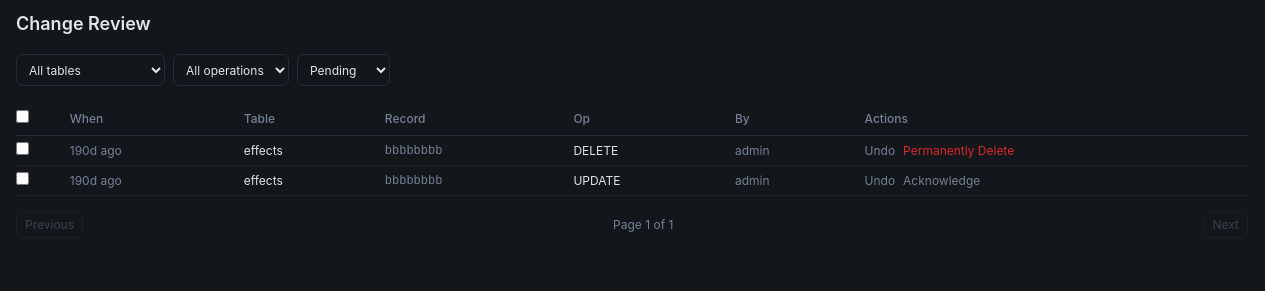
Test: ChangeReviewPage › bulk action bar appears when selection is non-empty
Click the 2nd checkbox at (22, 148), box top-left (16, 142), bottom-right (29, 155)
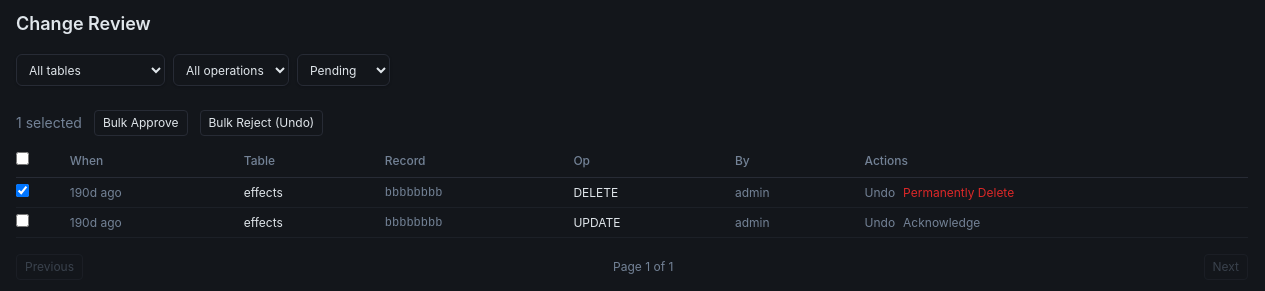
Result: the button "Bulk Approve" is shown at top-left (94, 110), bottom-right (188, 136)
Result: the button "Bulk Reject (Undo)" is shown at top-left (200, 110), bottom-right (323, 136)
